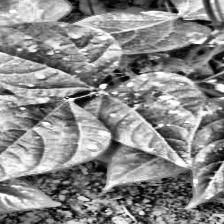Bean Rust: (84, 70, 206, 169), (0, 96, 110, 200), (0, 21, 117, 94), (191, 97, 224, 208)
